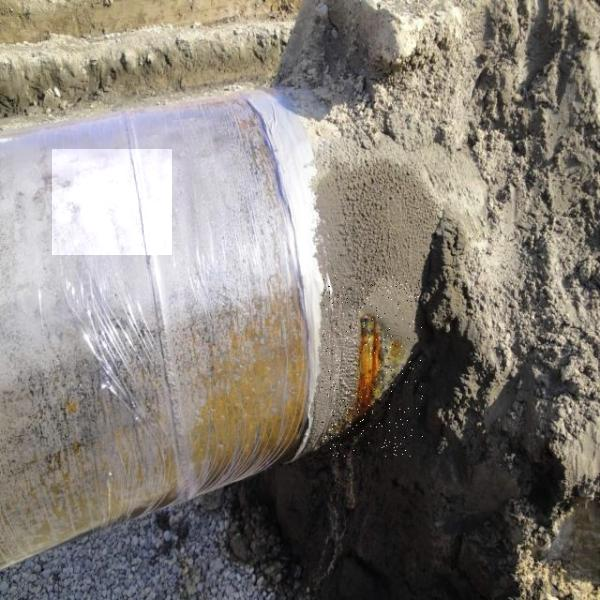no leak: (52, 149, 172, 255)
